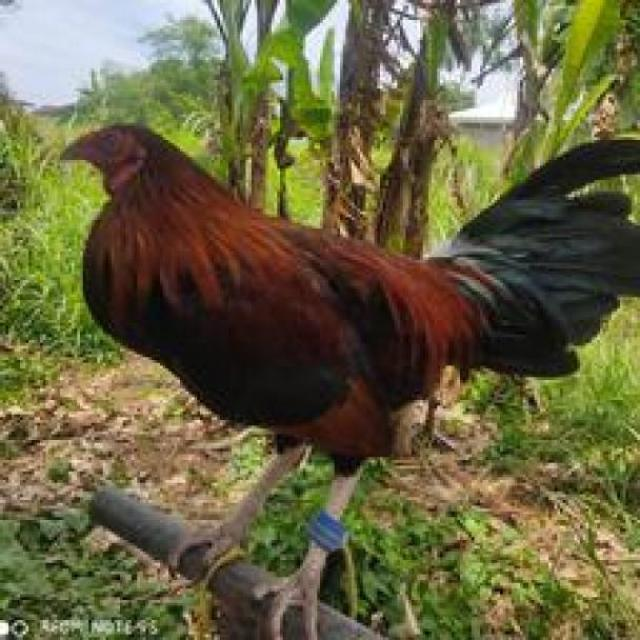Chicken: (34, 96, 640, 623)
